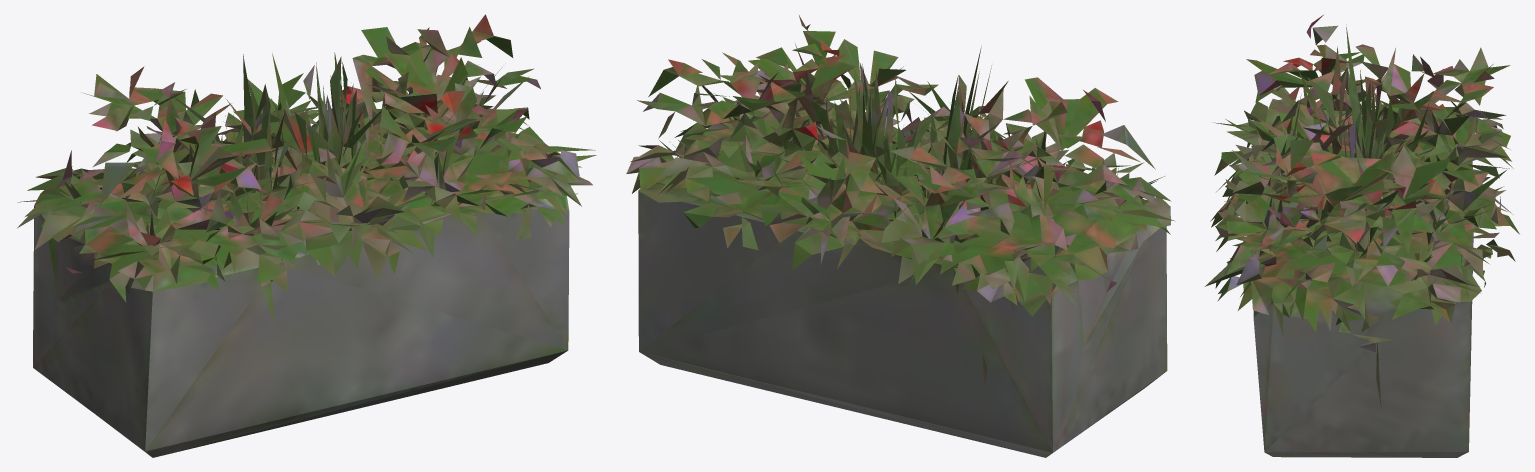
File: flower_planter_concrete.glb
3 views of the same model, side by side, from view 1: azimuth 30°, elevation 25°; view 2: azimuth 150°, elevation 25°; view 3: azimuth 270°, elevation 25° (orthographic). The views are drawn at different scales.
Visible parts, largest first — view 1: Mesh_0; view 2: Mesh_0; view 3: Mesh_0.
Boxes of the visible parts, left/top/right/bottom form: Mesh_0: left=17, top=14, right=596, bottom=457; Mesh_0: left=626, top=15, right=1175, bottom=457; Mesh_0: left=1204, top=15, right=1519, bottom=457.
Size of the model in its own units: 1.09 by 0.7 by 0.6352.
Materials: 1 (1 with a texture image).
